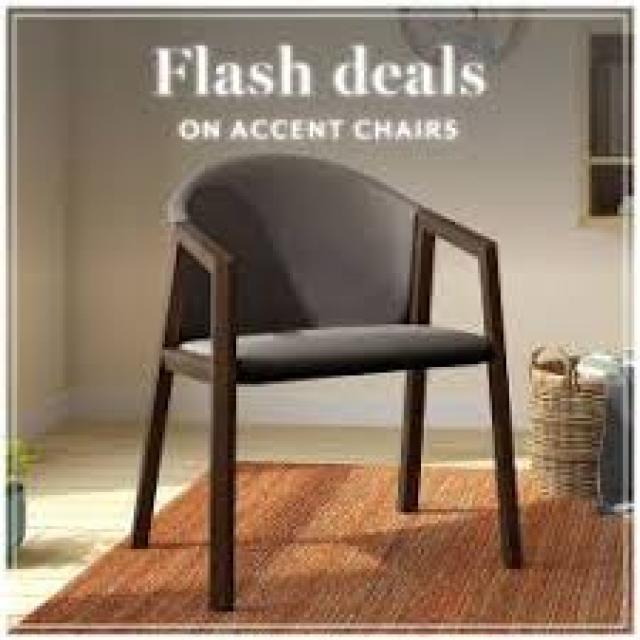chair: (82, 146, 561, 640)
